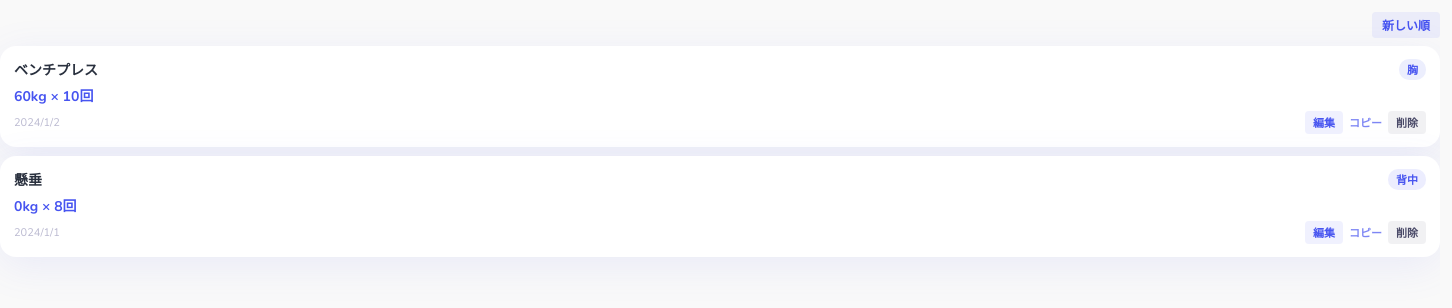
Scenario: WorkoutList › switches to edit mode with prefilled values when edit button is clicked
Click the button with class "edit-btn" in the row of "2024/1/2". click: (1324, 122)
box: [1305, 111, 1343, 134]
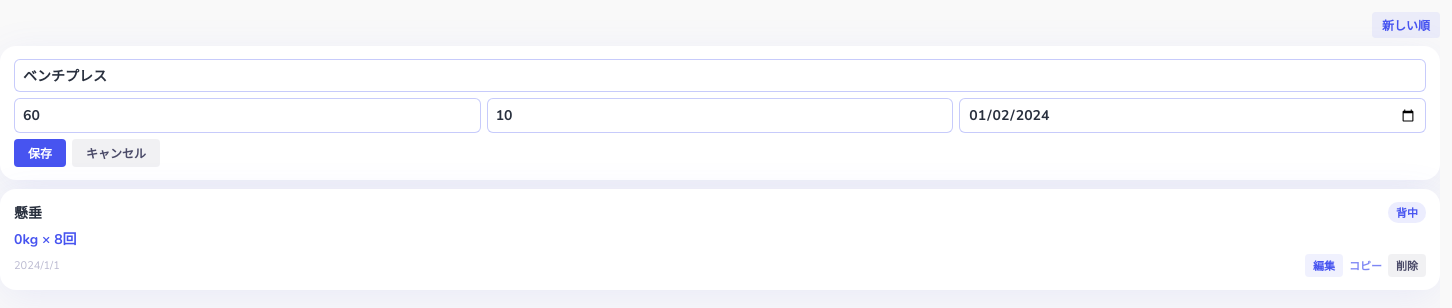
Expected: the field with class "edit-input" holds "ベンチプレス", [14, 59, 1426, 92]
Expected: the 1st number field with class "edit-input" holds "60", [14, 98, 481, 133]
Expected: the 2nd number field with class "edit-input" holds "10", [487, 98, 953, 133]
